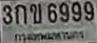3: (2, 4, 12, 24)
6: (47, 2, 56, 22)
9: (58, 1, 68, 22), (71, 1, 81, 21), (84, 0, 94, 20)
A01: (14, 4, 26, 24)
A02: (29, 3, 41, 23)
